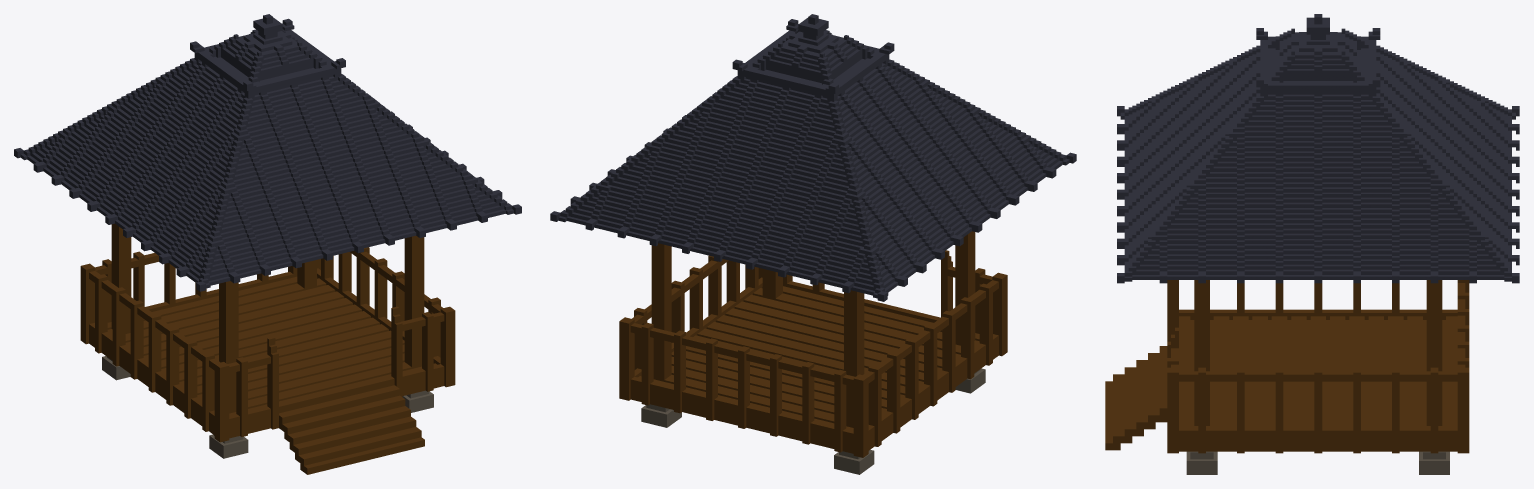
File: house3.glb
The picture shows the model from 3 angles, left to right: view 1: azimuth 30°, elevation 25°; view 2: azimuth 150°, elevation 25°; view 3: azimuth 270°, elevation 25°; orthographic projection. The views are drawn at different scales.
Parts seen in each view (by area): view 1: Voxel_Korean_traditional village-21; view 2: Voxel_Korean_traditional village-21; view 3: Voxel_Korean_traditional village-21.
Part boxes in pixels (<box>): Voxel_Korean_traditional village-21: <box>14,14,521,474</box>; Voxel_Korean_traditional village-21: <box>550,14,1076,474</box>; Voxel_Korean_traditional village-21: <box>1105,14,1519,474</box>.
Bounding box in the file's own units: 104 × 115 × 107.
1 material, 1 textured.
